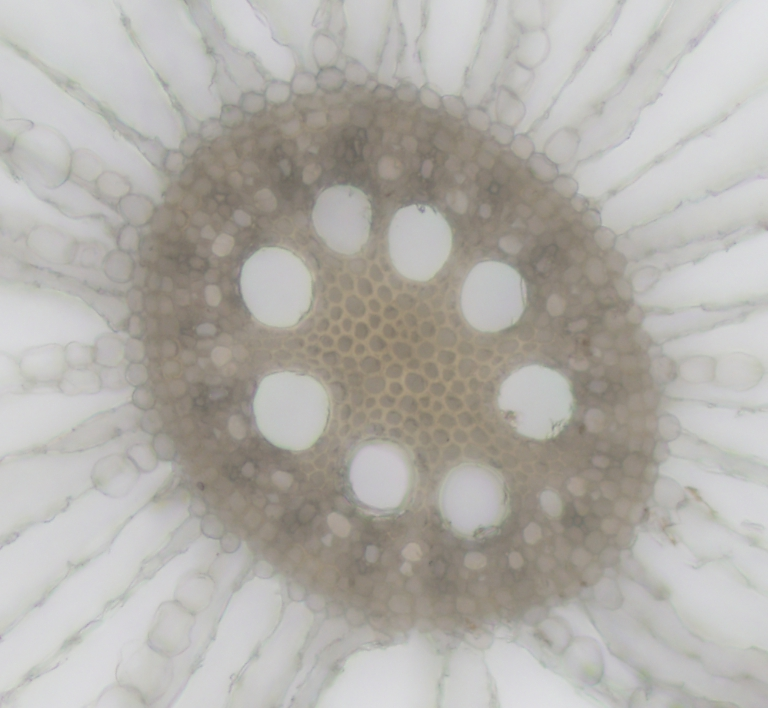lm: (252, 370, 332, 452), (238, 246, 314, 329), (496, 364, 576, 441), (438, 461, 513, 540), (345, 435, 416, 516), (386, 203, 453, 282), (459, 259, 528, 333), (310, 184, 372, 253)
